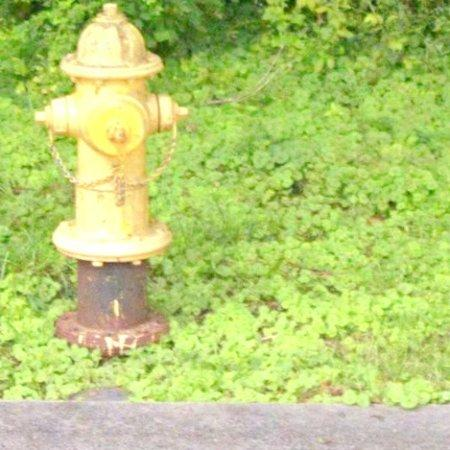a fire hydrant: (35, 3, 188, 357)
